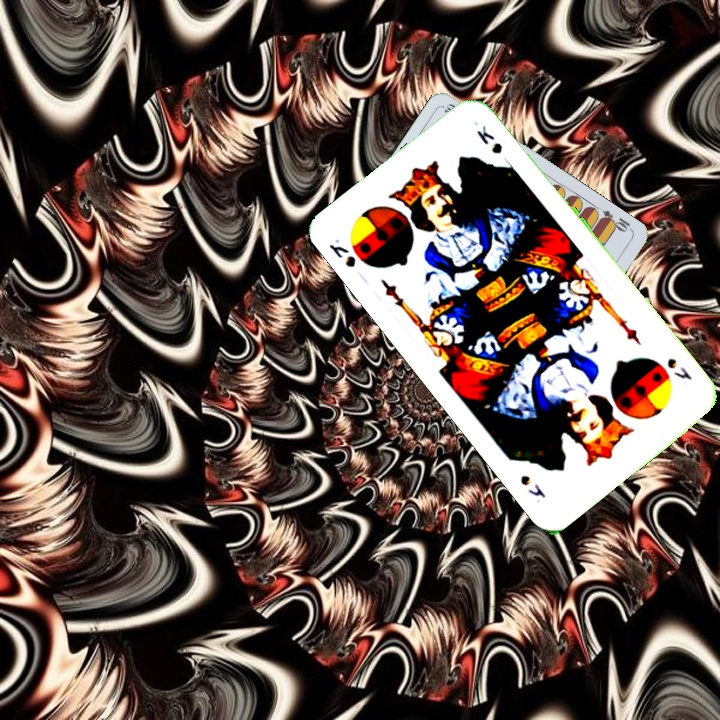E10: (596, 206, 635, 235)
SK: (324, 234, 359, 271), (662, 353, 695, 383)
